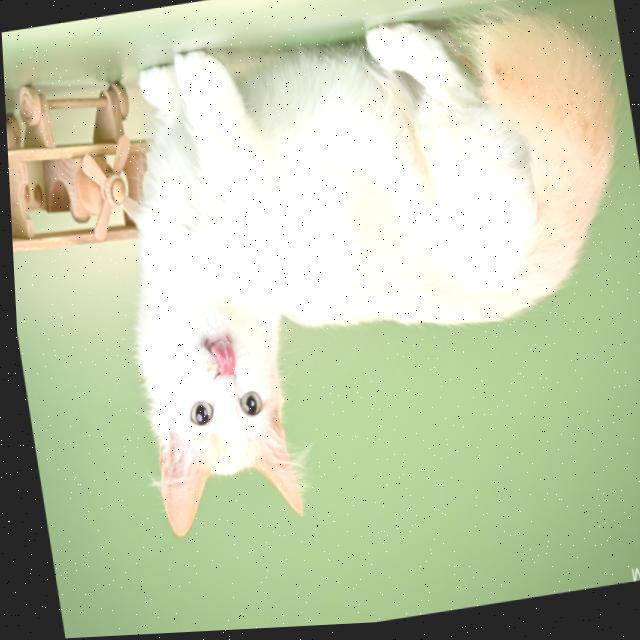Munchkin: (83, 0, 640, 550)
